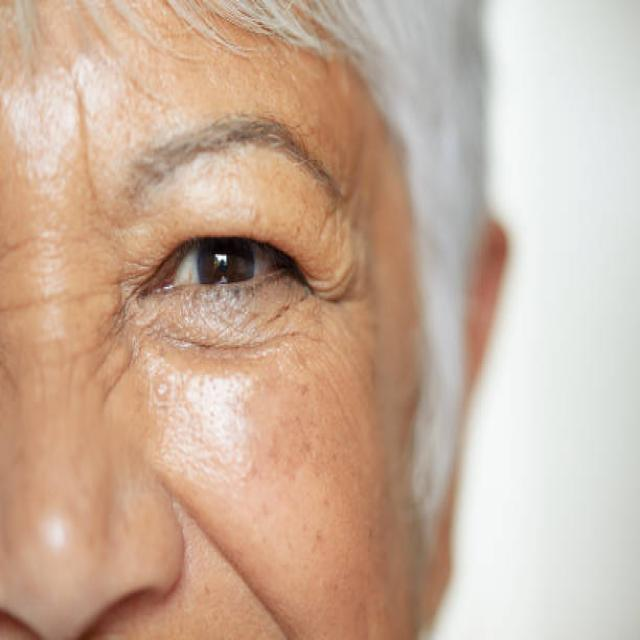Dry-Skin: (184, 326, 385, 587), (0, 163, 128, 518)
